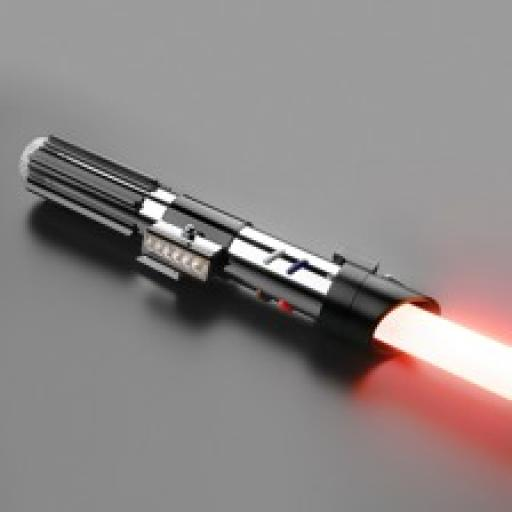lightsaber: (20, 132, 512, 403)
